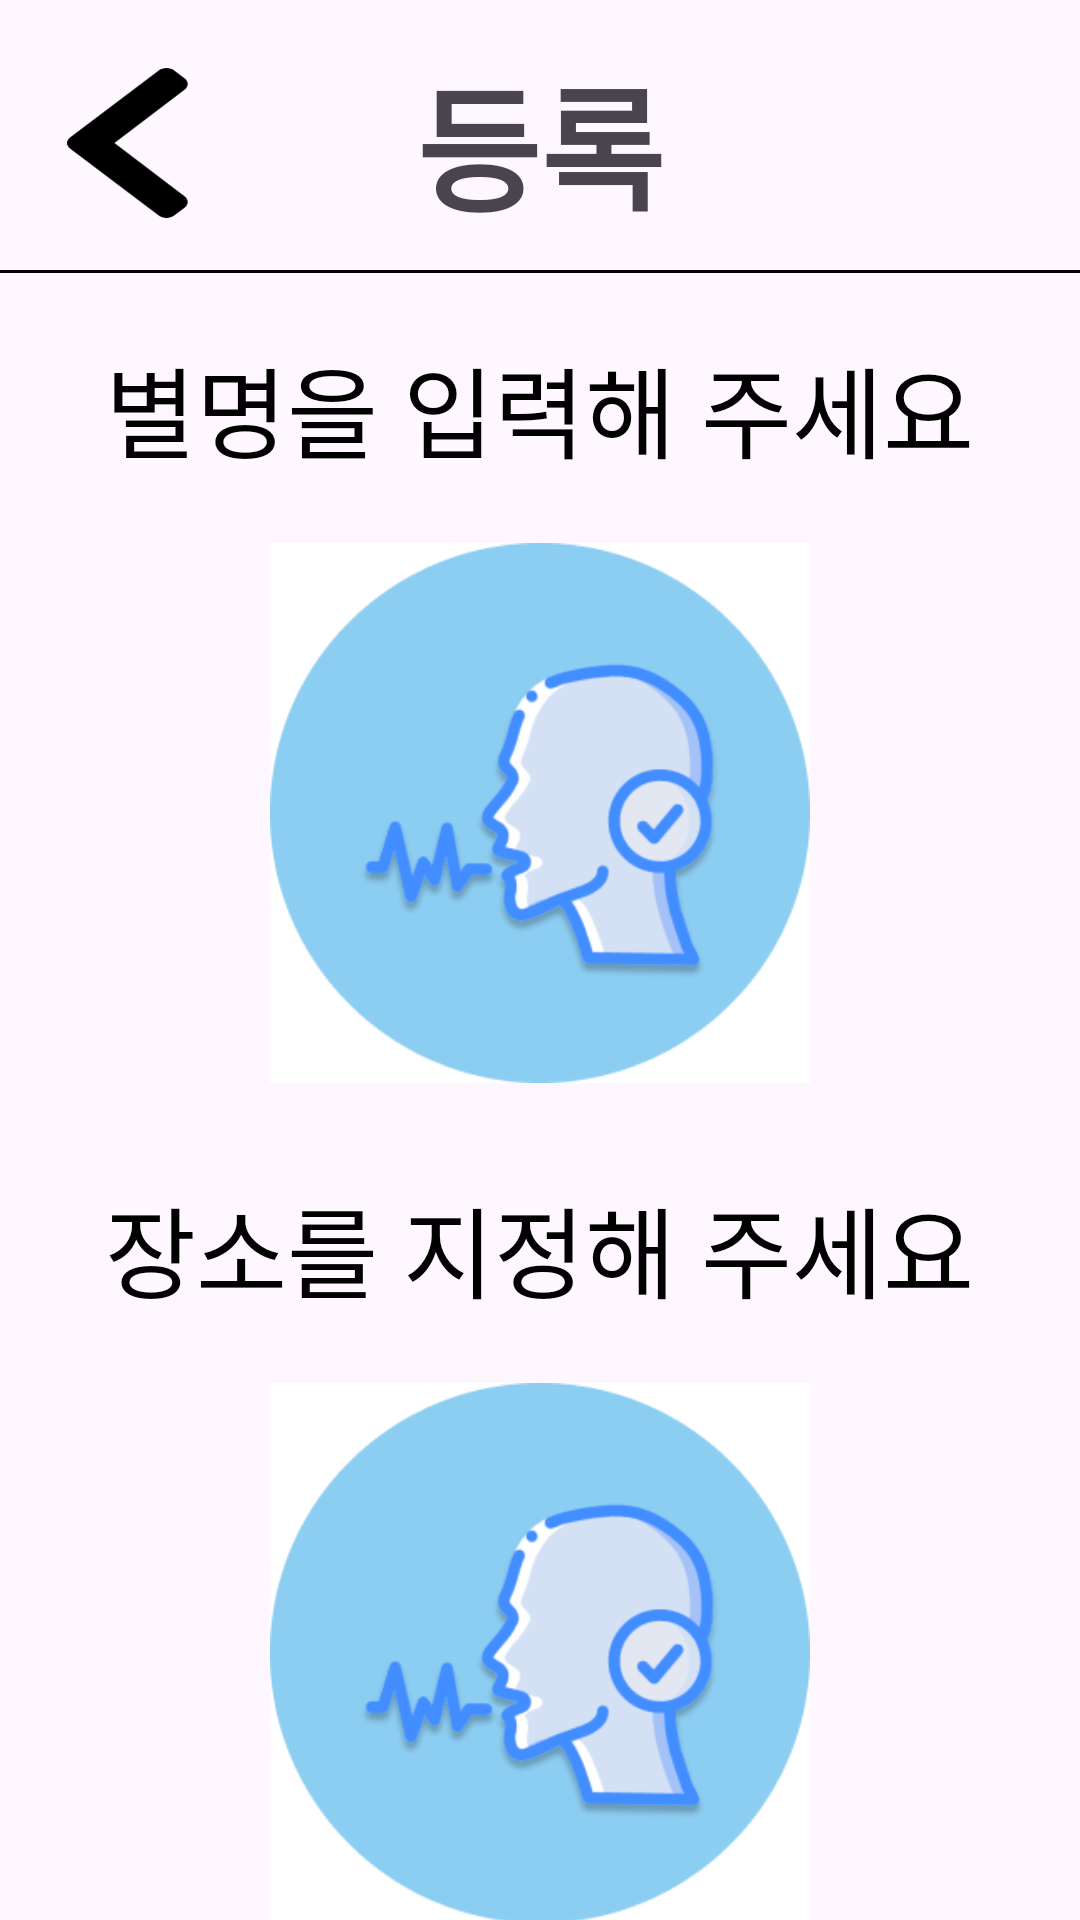

Icon bounding boxes for this 1080x1920 phone screenshot, format (x1, y1, x2, y2):
chevron left: (67, 68, 188, 218)
